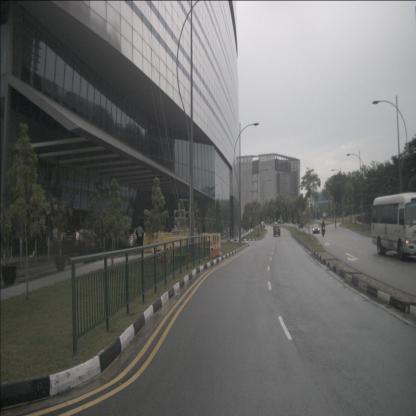cone: (159, 245, 165, 263), (150, 246, 156, 262), (208, 242, 213, 260), (211, 242, 216, 258), (216, 240, 220, 257), (214, 241, 218, 257)
